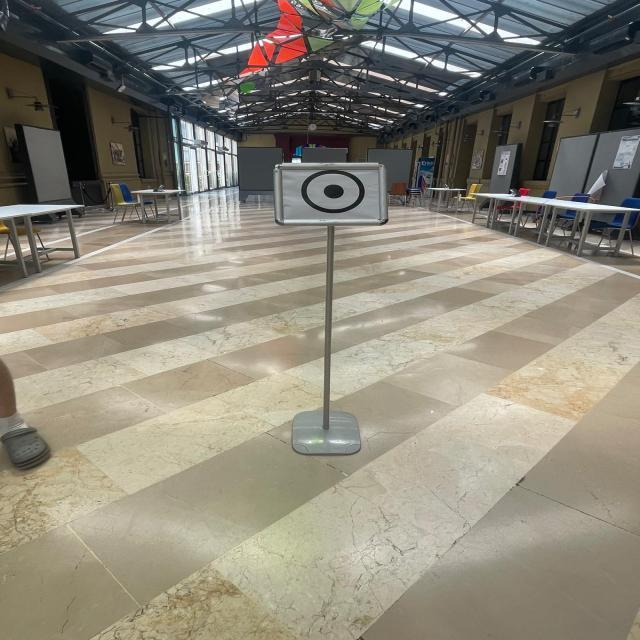Target: (266, 145, 401, 241)
inner: (318, 180, 352, 208)
